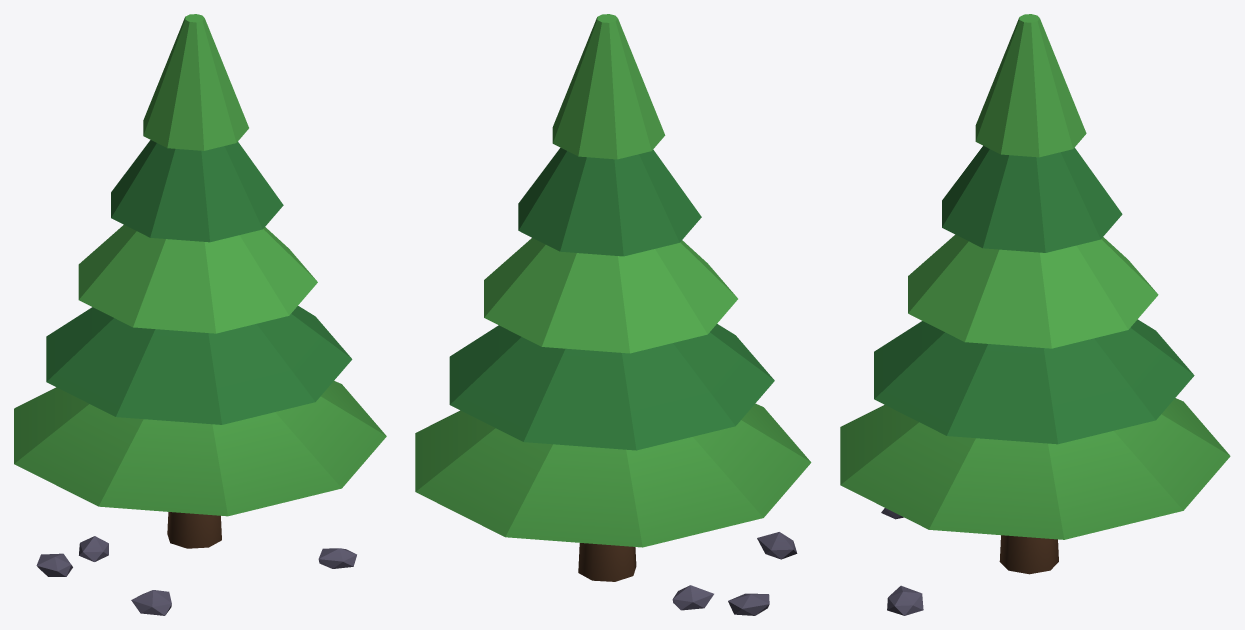
The model's file is tree_pine.glb.
3 renders of one model, left to right at view 1: azimuth 30°, elevation 25°; view 2: azimuth 150°, elevation 25°; view 3: azimuth 270°, elevation 25°, orthographic. The views are drawn at different scales.
Visible parts, largest first — view 1: t0_leaf, t0_leaf_dark, t0_rock_light, t0_bark; view 2: t0_leaf, t0_leaf_dark, t0_rock_light, t0_bark; view 3: t0_leaf, t0_leaf_dark, t0_bark, t0_rock_light.
Part boxes in pixels (bbox=[...]): t0_leaf: bbox=[14, 14, 386, 516]; t0_leaf_dark: bbox=[46, 140, 352, 424]; t0_rock_light: bbox=[36, 536, 356, 615]; t0_bark: bbox=[167, 512, 221, 548]; t0_leaf: bbox=[415, 14, 811, 547]; t0_leaf_dark: bbox=[449, 147, 774, 450]; t0_rock_light: bbox=[672, 532, 797, 615]; t0_bark: bbox=[578, 543, 636, 581]; t0_leaf: bbox=[840, 14, 1230, 539]; t0_leaf_dark: bbox=[874, 145, 1194, 444]; t0_bark: bbox=[999, 535, 1058, 574]; t0_rock_light: bbox=[881, 508, 923, 615].
Size of the model in its own units: 1.87 by 2.86 by 1.84.
